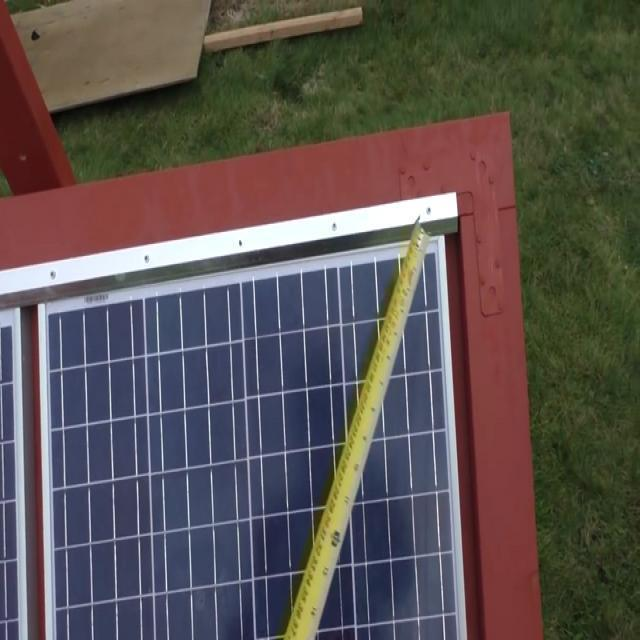Normal Solar Panel: (0, 224, 467, 640)
